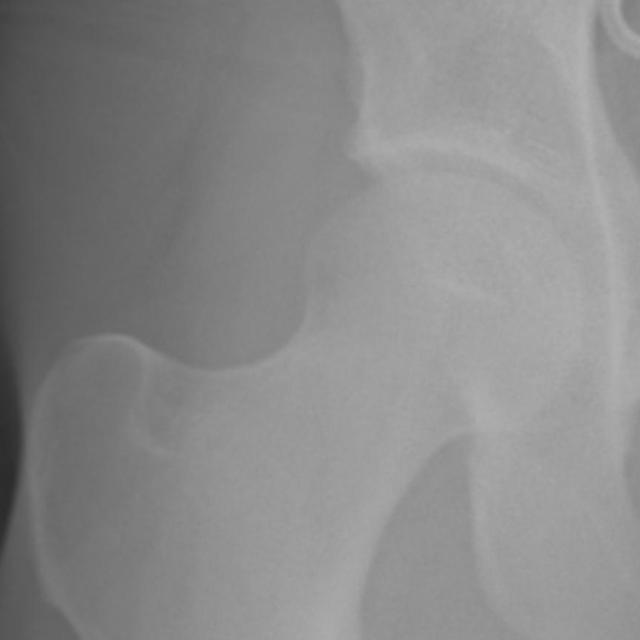Fitted_femural_head: (292, 167, 432, 292)
